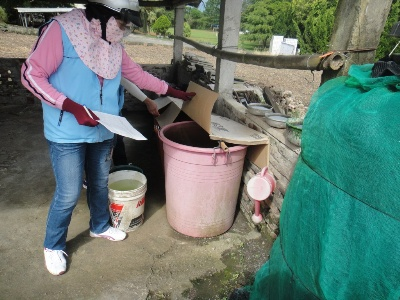bucket: (157, 119, 255, 239), (103, 165, 147, 233)
plate: (264, 111, 292, 129), (247, 99, 274, 115)
